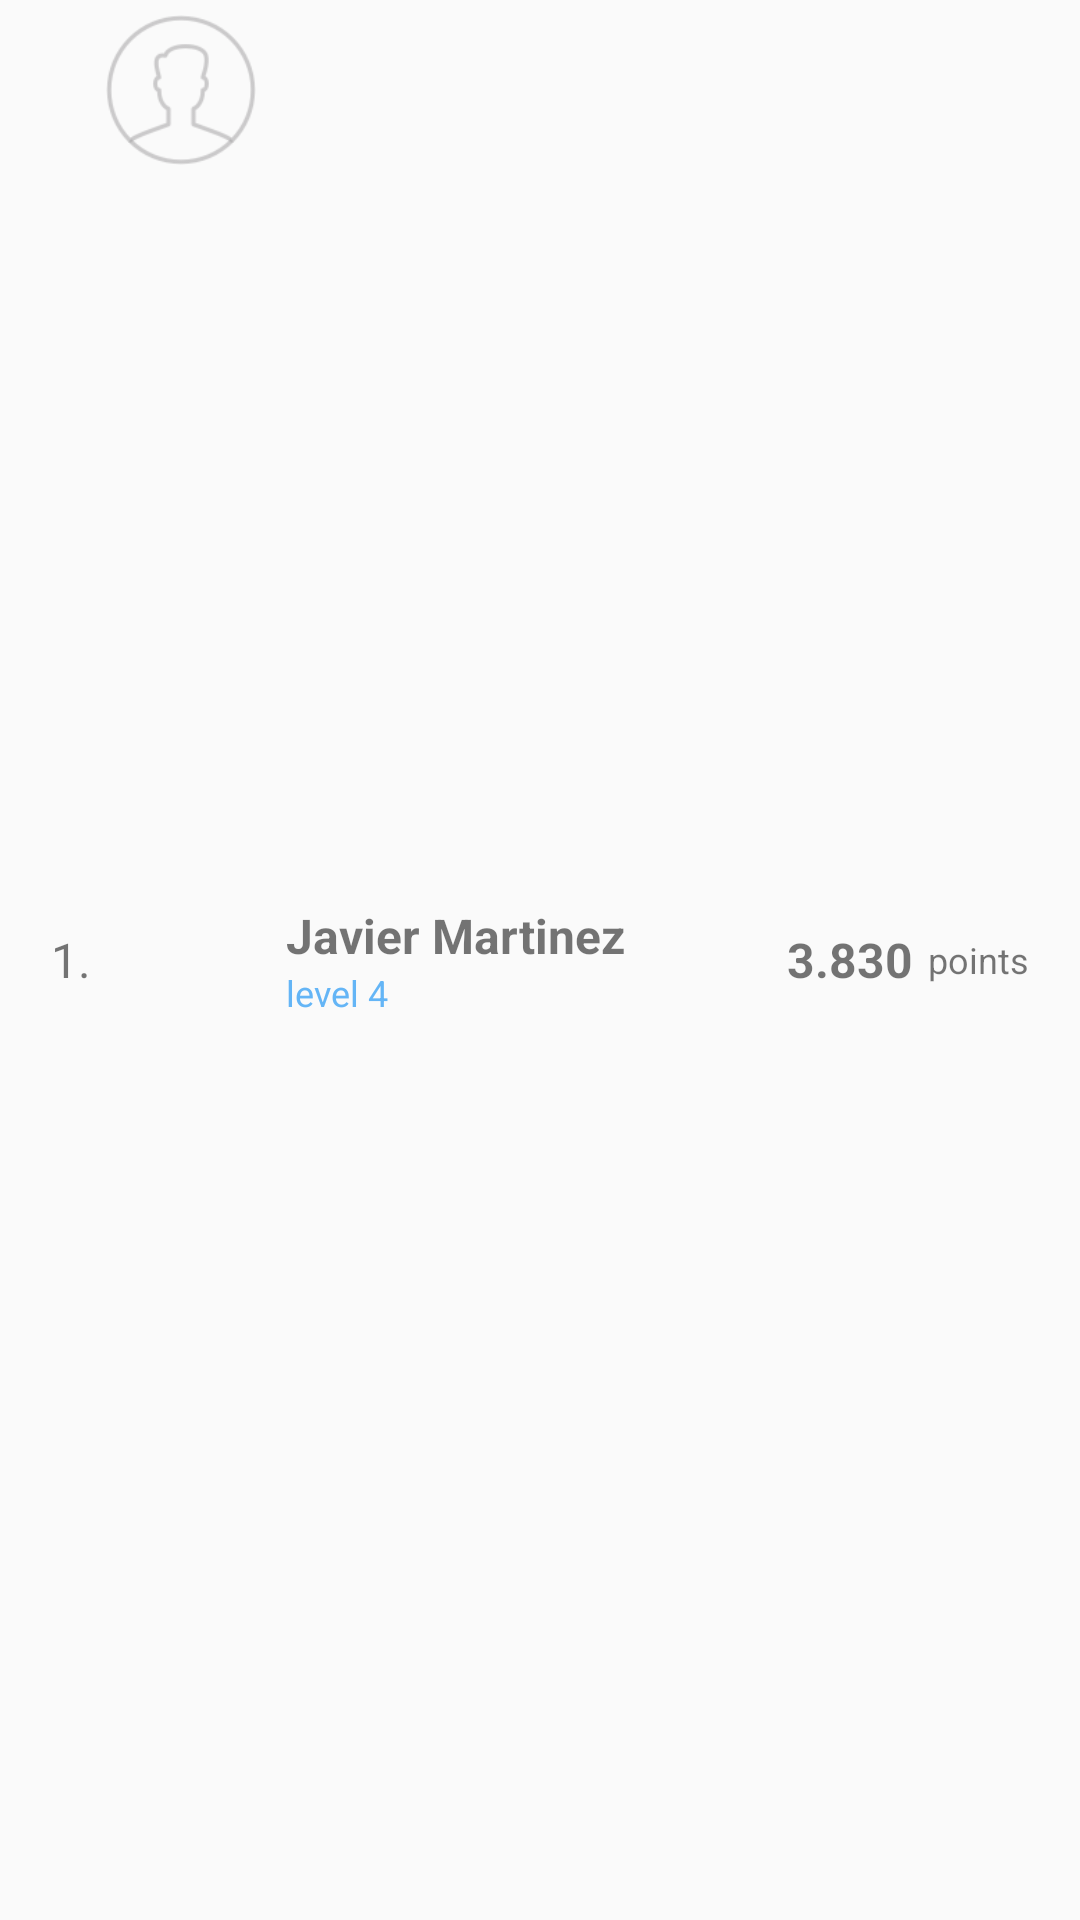

Locate icon controls on the screen. Image size 1080*1920, boxes as (x1, y1, x2, y2).
Player profile picture: (107, 16, 255, 164)
